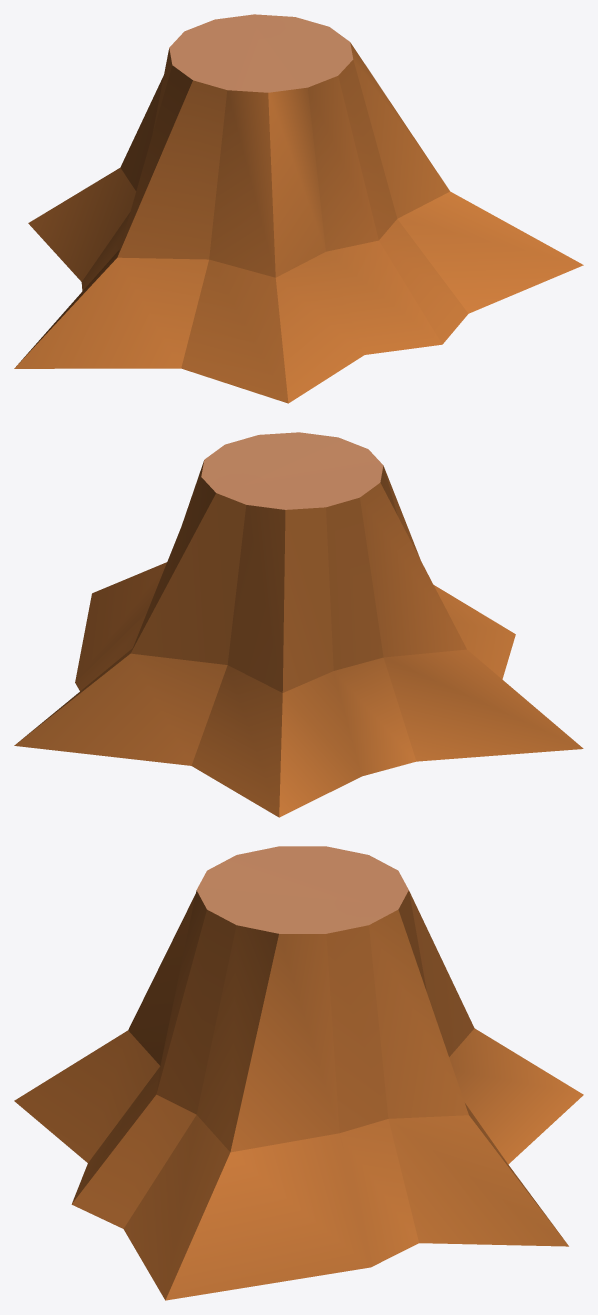
File: TreeStump.fbx
The picture shows the model from 3 angles, top to bottom: view 1: azimuth 30°, elevation 25°; view 2: azimuth 150°, elevation 25°; view 3: azimuth 270°, elevation 25°; orthographic projection. The views are drawn at different scales.
Parts seen in each view (by area): view 1: Cylinder; view 2: Cylinder; view 3: Cylinder.
Part boxes in pixels (x1,y1,x2,y2): Cylinder: (14, 14, 583, 403); Cylinder: (14, 432, 583, 817); Cylinder: (14, 846, 583, 1300).
Size of the model in its own units: 384 by 164 by 311.
